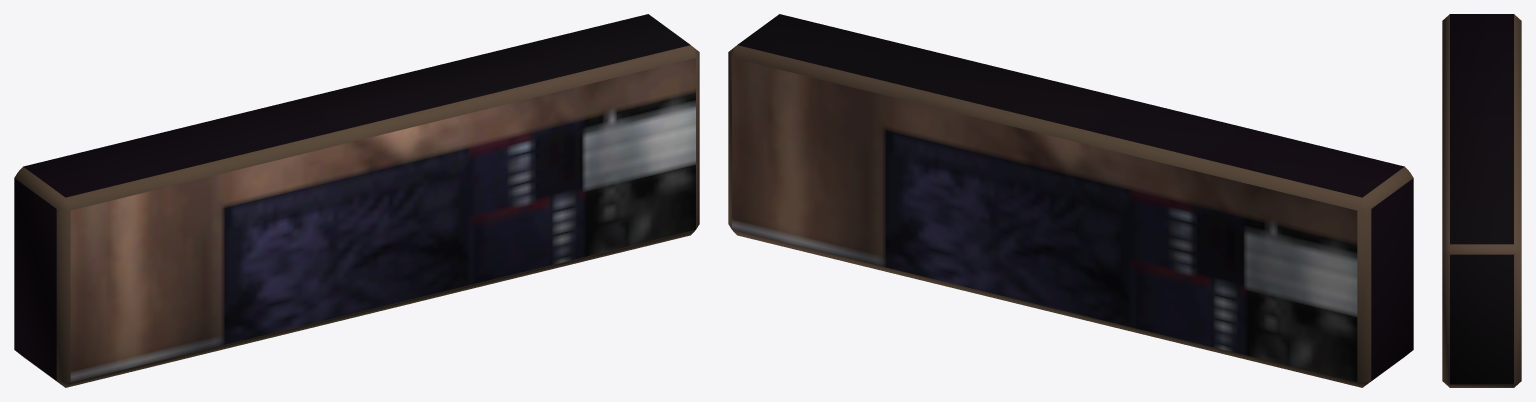
The model's file is Settings.ico.obj.
3 views of the same model, side by side, from view 1: azimuth 30°, elevation 25°; view 2: azimuth 150°, elevation 25°; view 3: azimuth 270°, elevation 25° (orthographic). The views are drawn at different scales.
Bounding box in the file's own units: 5 × 1.41 × 0.7095.
